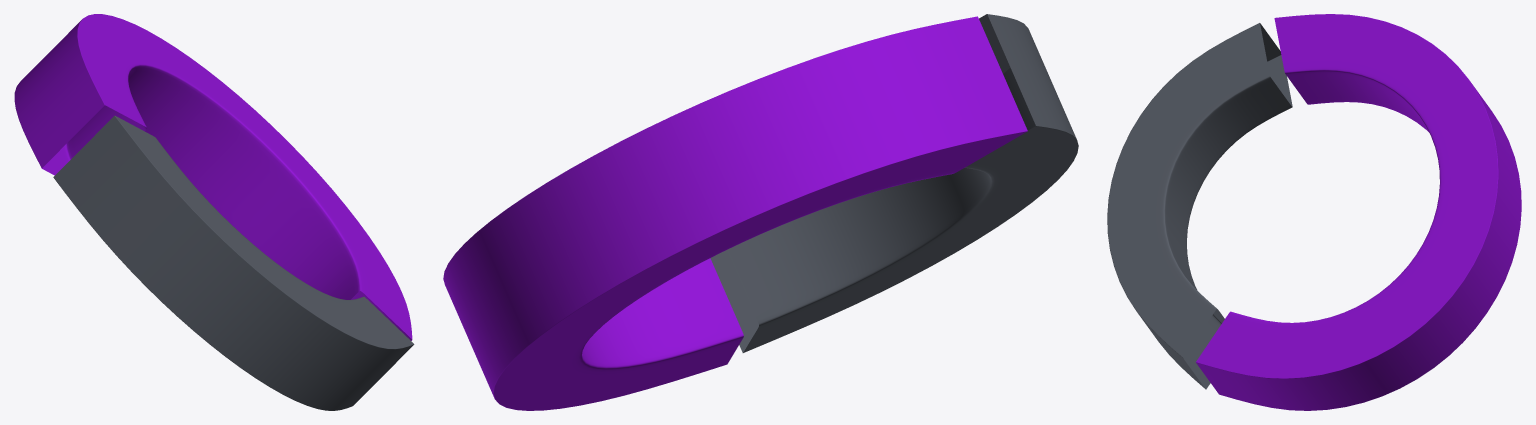
File: 1PieChart.glb
3 views of the same model, side by side, from view 1: azimuth 30°, elevation 25°; view 2: azimuth 150°, elevation 25°; view 3: azimuth 270°, elevation 25° (orthographic). The views are drawn at different scales.
Visible parts, largest first — view 1: Cylinder.001, Cylinder; view 2: Cylinder.001, Cylinder; view 3: Cylinder.001, Cylinder.
Part boxes in pixels (<box>): Cylinder.001: <box>14,14,412,340</box>; Cylinder: <box>53,115,414,410</box>; Cylinder.001: <box>443,16,1027,410</box>; Cylinder: <box>710,14,1078,352</box>; Cylinder.001: <box>1196,14,1521,410</box>; Cylinder: <box>1107,23,1292,389</box>.
Bounding box in the file's own units: 2.62 × 2.37 × 2.97.
